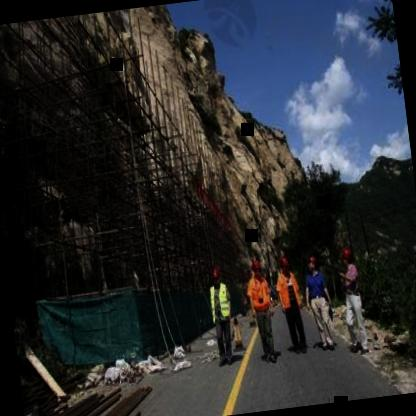helmet: (277, 253, 292, 279), (209, 264, 225, 288), (248, 255, 263, 280), (338, 244, 354, 267), (305, 249, 320, 270)
